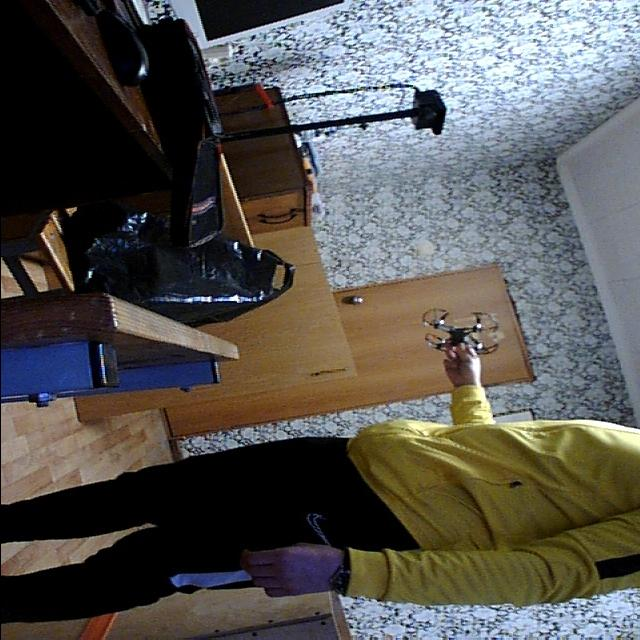drone: (414, 302, 515, 364)
